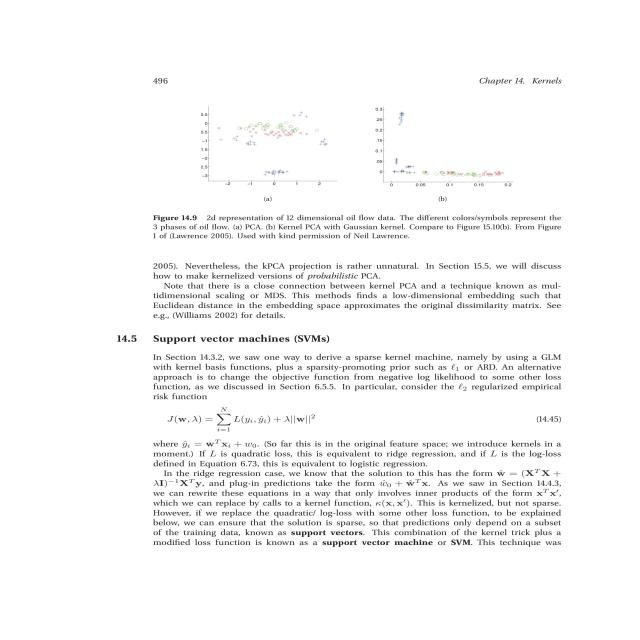diagram: (98, 98, 596, 262)
